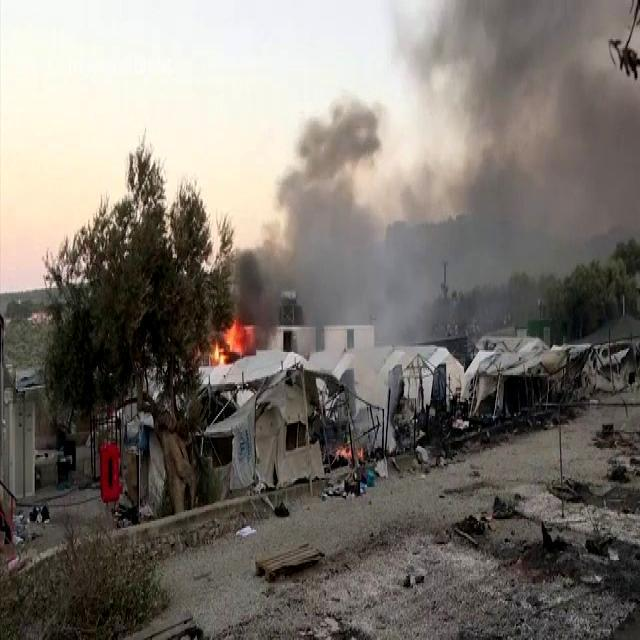Fire: (217, 309, 256, 366)
Smoke: (272, 0, 640, 328), (0, 0, 267, 252)
